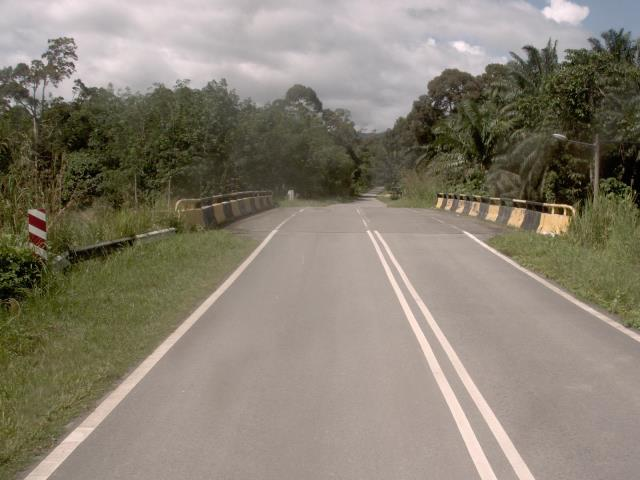traffic_sign: (22, 202, 53, 259)
